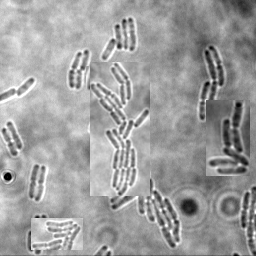Dividing: (67, 52, 81, 89), (1, 128, 18, 157), (34, 166, 47, 202), (28, 164, 39, 200), (239, 192, 249, 229)
Microcolony: (90, 62, 150, 196), (109, 158, 180, 249), (206, 100, 250, 176), (199, 45, 224, 121), (31, 218, 83, 250), (101, 18, 136, 61)
Rod: (5, 121, 23, 150), (16, 78, 34, 99), (86, 66, 98, 91), (79, 50, 89, 72), (73, 69, 82, 90)
